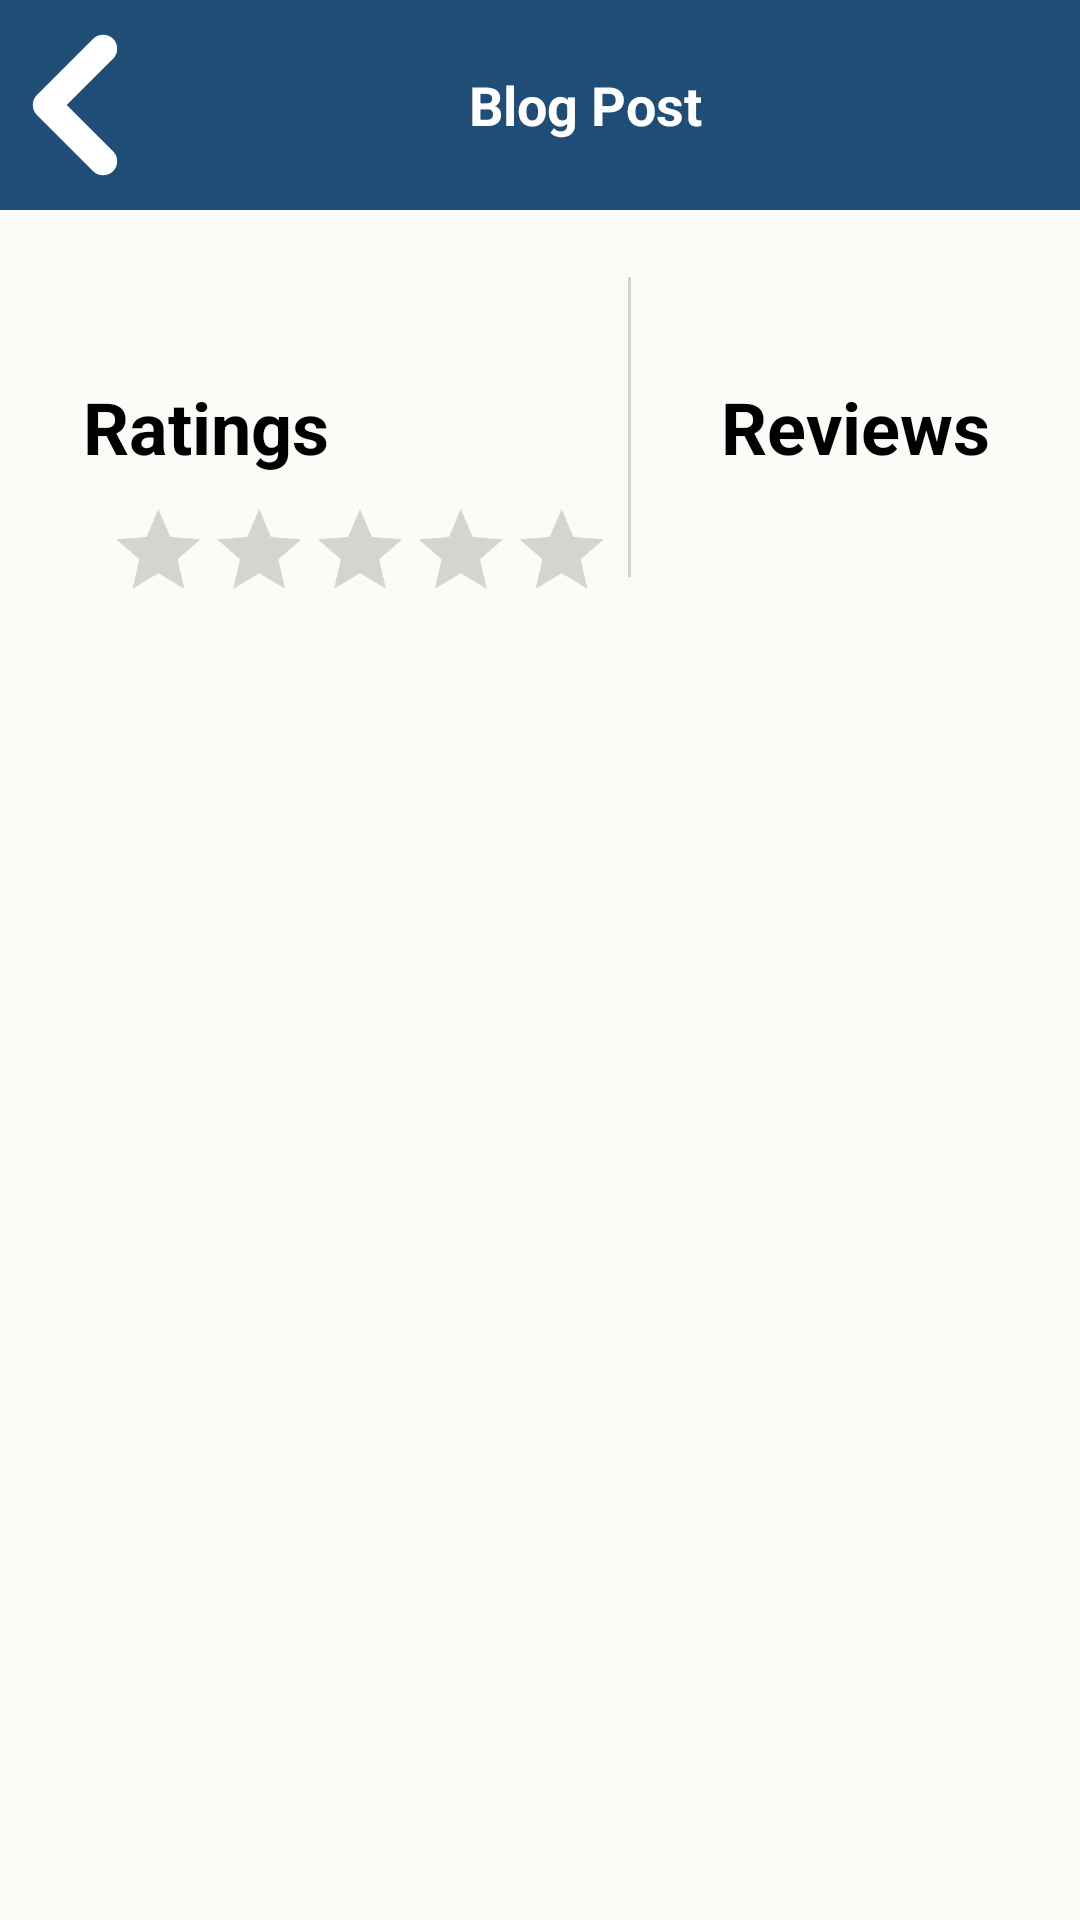

Icon click points for this 1080*1920 phone screenshot, format (x,y):
Back: (75,105)
